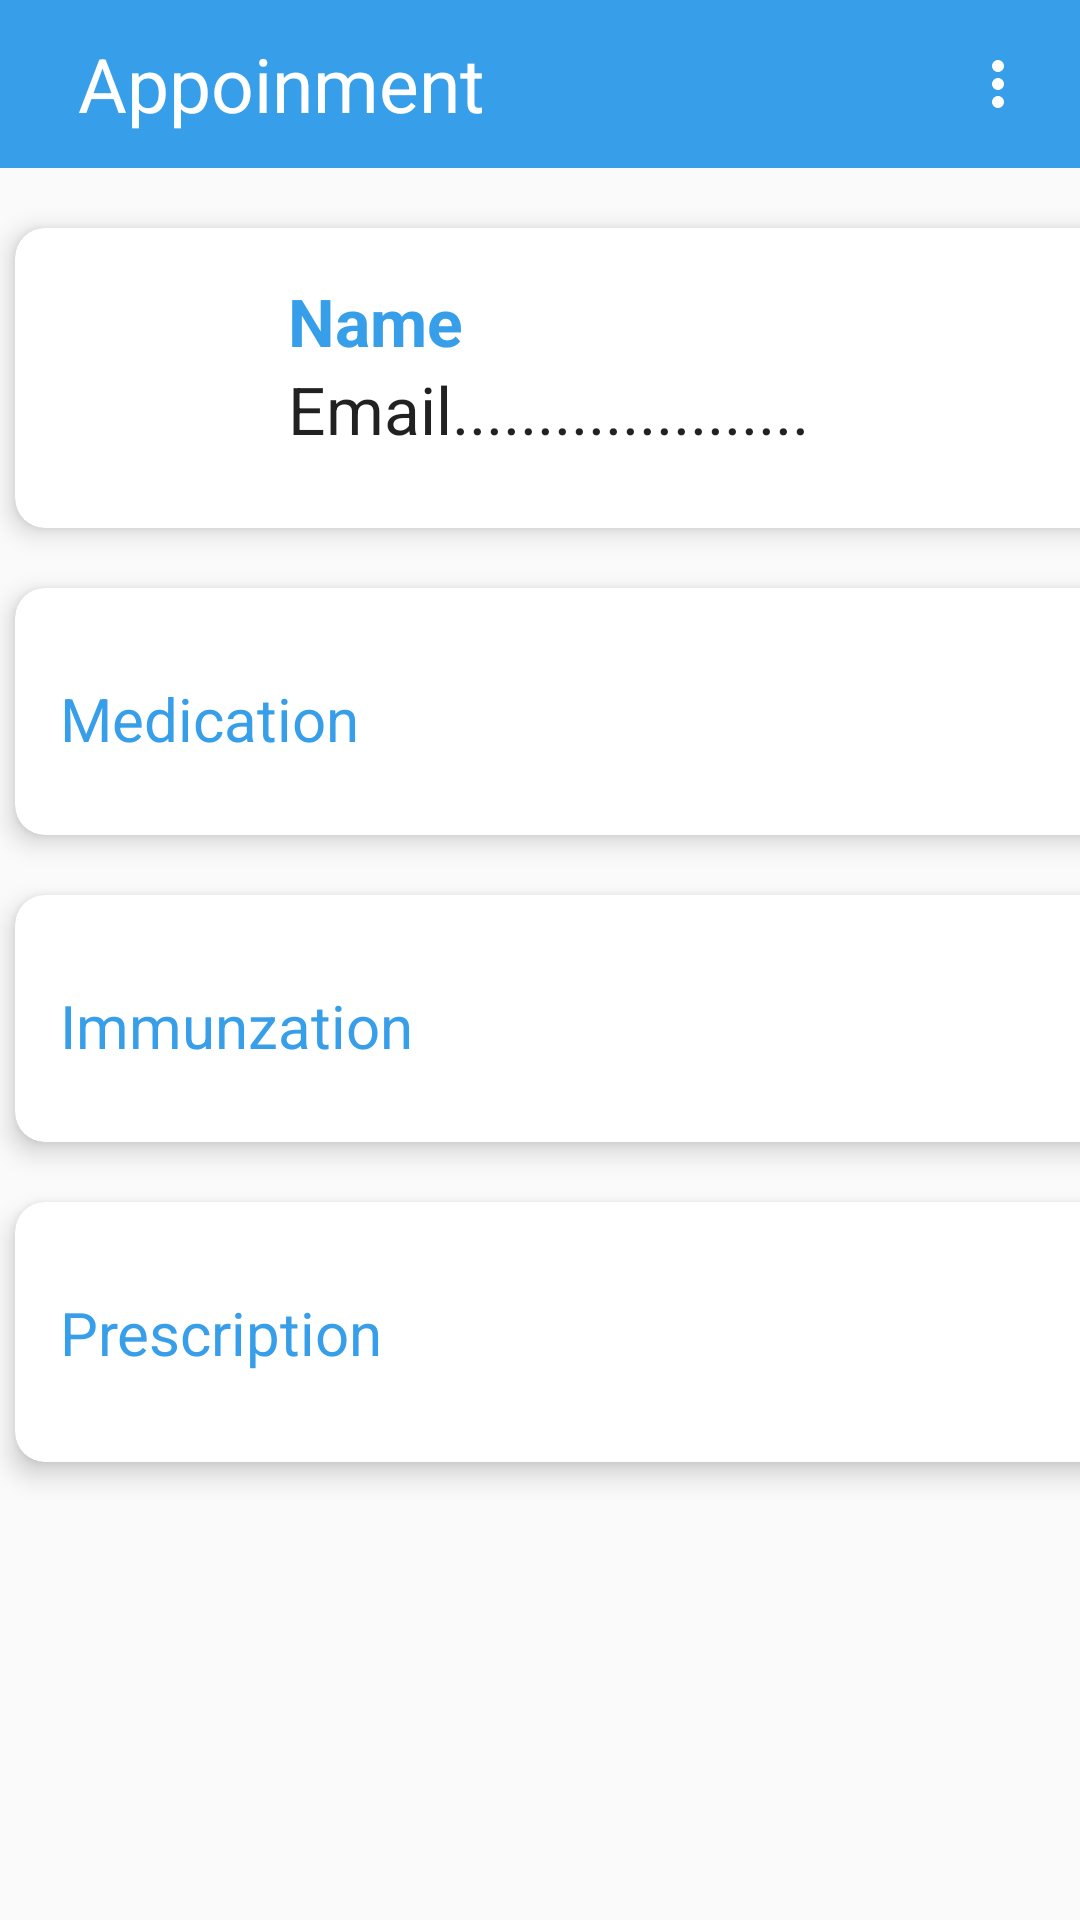

Screen size 1080*1920. Icon name, then its center in pixels as (x,y):
more vert: (998,84)
